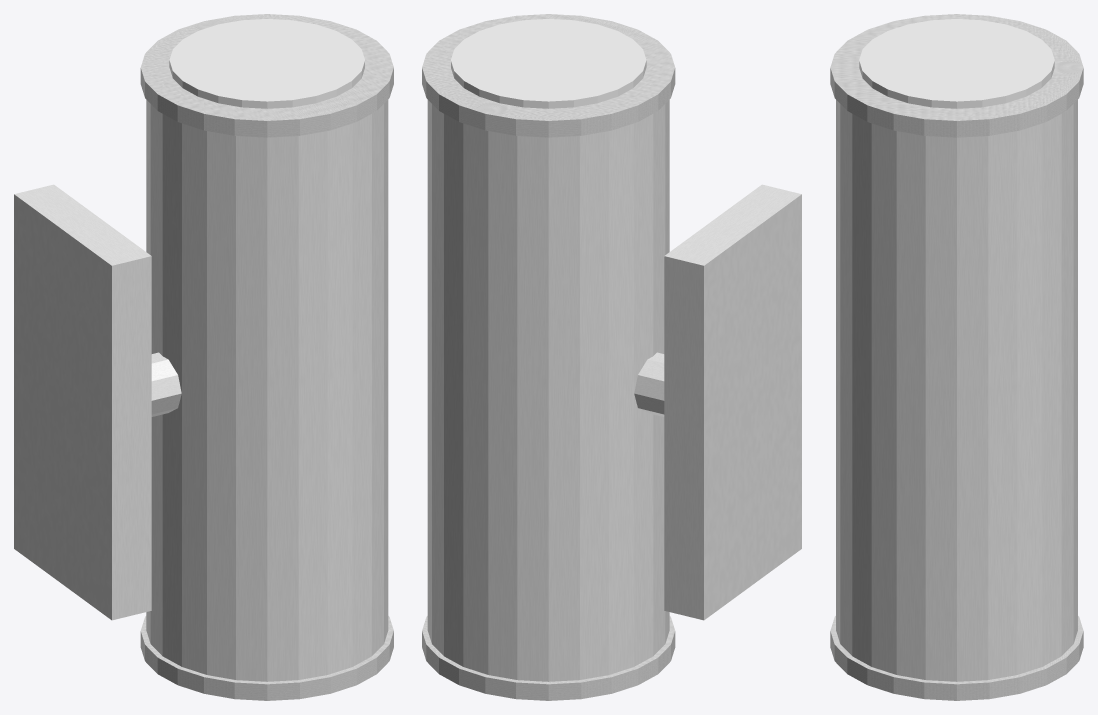
The model's file is cylinderwallsconce.obj.
3 views of the same model, side by side, from view 1: azimuth 30°, elevation 25°; view 2: azimuth 150°, elevation 25°; view 3: azimuth 270°, elevation 25° (orthographic).
Visible parts, largest first — view 1: Metal, Base, Trim, Light0; view 2: Metal, Base, Trim, Light0; view 3: Metal, Trim, Light0.
Part boxes in pixels (bbox=[...]): Metal: bbox=[146, 100, 388, 681]; Base: bbox=[14, 184, 151, 620]; Trim: bbox=[140, 14, 393, 700]; Light0: bbox=[169, 19, 364, 108]; Metal: bbox=[427, 100, 669, 681]; Base: bbox=[664, 184, 801, 620]; Trim: bbox=[422, 14, 675, 700]; Light0: bbox=[451, 19, 646, 108]; Metal: bbox=[836, 100, 1077, 681]; Trim: bbox=[830, 14, 1083, 700]; Light0: bbox=[859, 19, 1054, 108].
Bounding box in the file's own units: 0.315 × 0.57 × 0.22.
